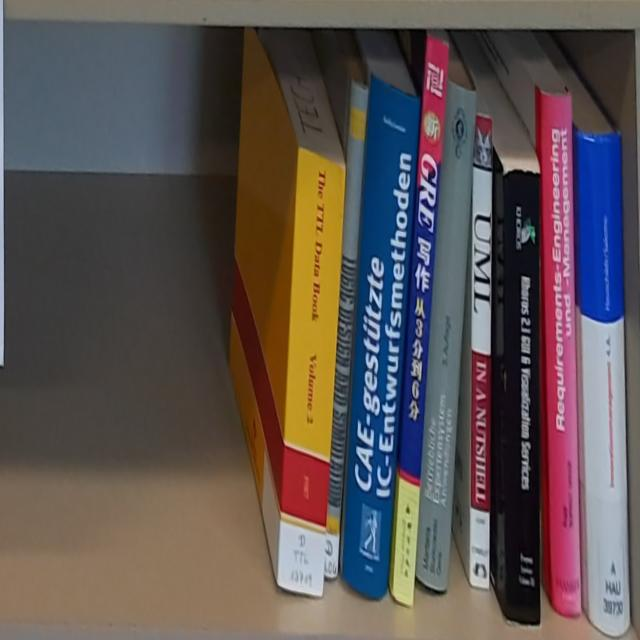Book Spine: (339, 77, 420, 601), (393, 29, 448, 612), (417, 65, 475, 595), (279, 148, 347, 597), (576, 129, 631, 640), (325, 82, 371, 582), (538, 89, 581, 613), (502, 174, 541, 623), (469, 113, 493, 591)
